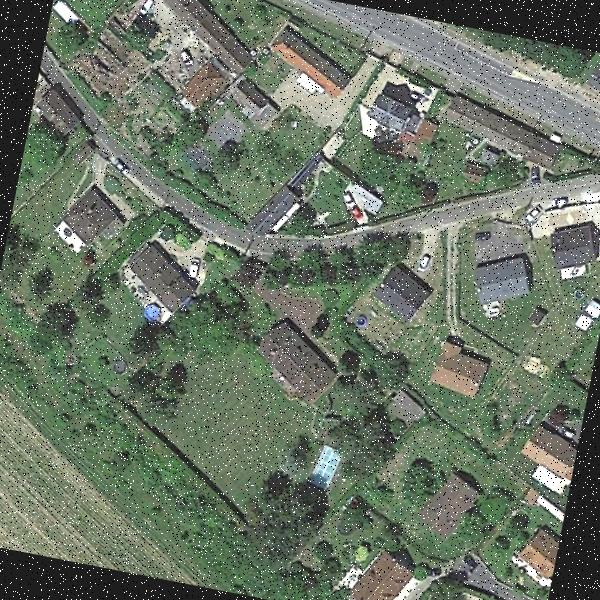Buildings: (141, 0, 250, 112), (249, 317, 335, 391), (266, 30, 352, 102), (410, 467, 483, 541), (122, 244, 200, 302), (426, 338, 493, 398), (520, 428, 579, 495), (340, 557, 410, 600), (508, 524, 560, 580), (546, 216, 596, 274), (375, 266, 428, 318), (474, 255, 526, 306), (60, 198, 118, 242), (370, 92, 420, 139), (37, 86, 85, 133), (583, 57, 600, 115)
